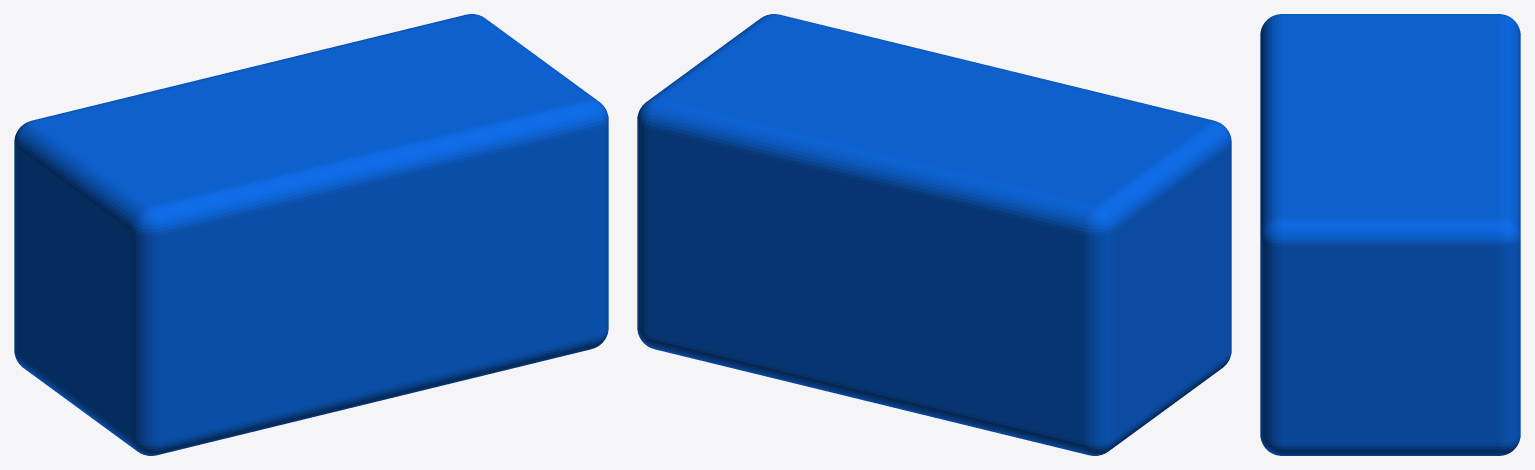
File: base1x2BlockLRound.glb
3 views of the same model, side by side, from view 1: azimuth 30°, elevation 25°; view 2: azimuth 150°, elevation 25°; view 3: azimuth 270°, elevation 25° (orthographic). The views are drawn at different scales.
Visible parts, largest first — view 1: Cube; view 2: Cube; view 3: Cube.
Part boxes in pixels (x1=…): Cube: x1=14, y1=14, x2=608, y2=455; Cube: x1=637, y1=14, x2=1231, y2=455; Cube: x1=1260, y1=14, x2=1520, y2=455.
Bounding box in the file's own units: 4 × 2 × 2.
